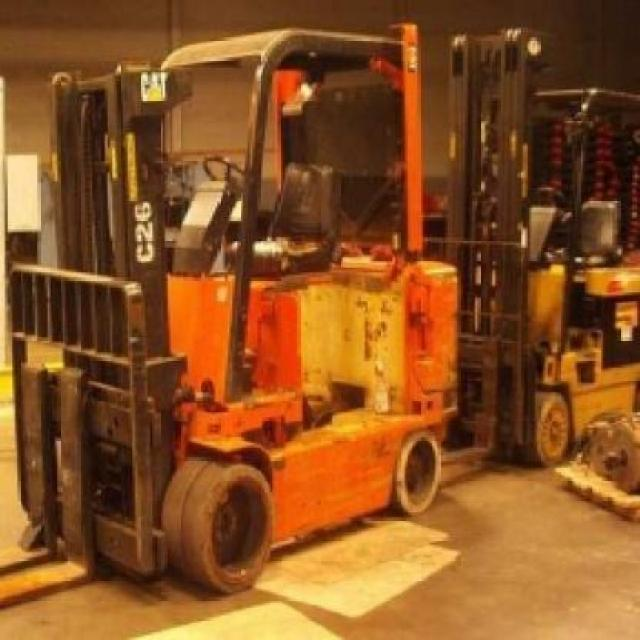forklift: (2, 19, 458, 590), (437, 27, 640, 470)
